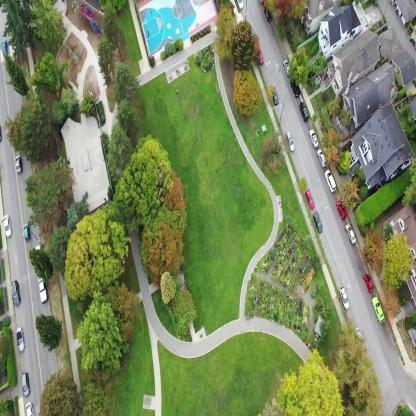Coniferous Tree: (333, 339, 377, 416), (80, 302, 121, 380), (0, 0, 39, 55), (38, 370, 77, 416), (102, 0, 126, 62), (169, 298, 198, 344), (22, 0, 58, 37), (35, 311, 63, 356), (75, 382, 113, 415), (2, 53, 30, 93), (264, 130, 286, 178), (111, 122, 129, 180), (48, 226, 66, 284), (114, 62, 137, 107), (159, 274, 177, 310), (30, 250, 54, 276), (118, 104, 135, 133)
Deciduous Tree: (116, 142, 188, 223), (66, 226, 126, 286), (282, 357, 340, 416), (4, 93, 53, 156), (142, 214, 188, 270), (28, 172, 64, 226), (111, 276, 140, 338), (383, 232, 413, 288), (229, 73, 262, 114), (232, 26, 258, 72), (267, 0, 301, 30), (219, 3, 234, 70)
